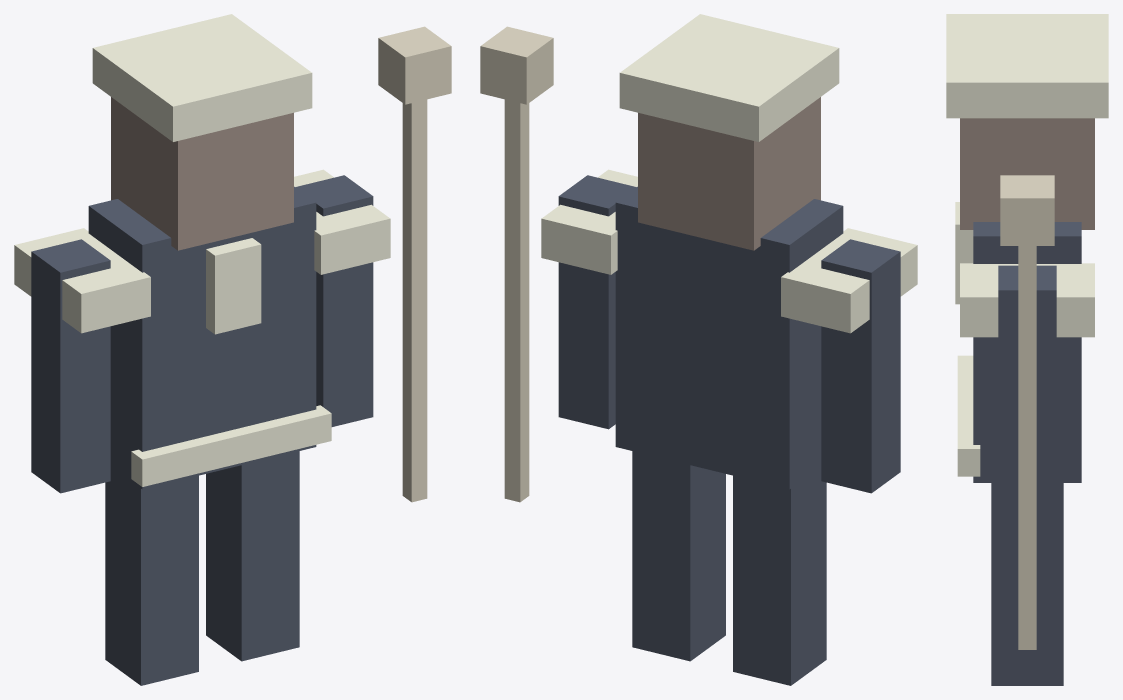
File: 02_juno_trenchmark_fixer_of_central.glb
The picture shows the model from 3 angles, left to right: view 1: azimuth 30°, elevation 25°; view 2: azimuth 150°, elevation 25°; view 3: azimuth 270°, elevation 25°; orthographic projection.
Parts seen in each view (by area): view 1: Juno Trenchmark, Fixer of Central; view 2: Juno Trenchmark, Fixer of Central; view 3: Juno Trenchmark, Fixer of Central.
Boxes of the visible parts, box(x1,y1,x2,y2) form: Juno Trenchmark, Fixer of Central: box(14, 14, 451, 685); Juno Trenchmark, Fixer of Central: box(480, 14, 917, 685); Juno Trenchmark, Fixer of Central: box(946, 14, 1108, 685).
Size of the model in its own units: 1 by 1.45 by 0.3556.
